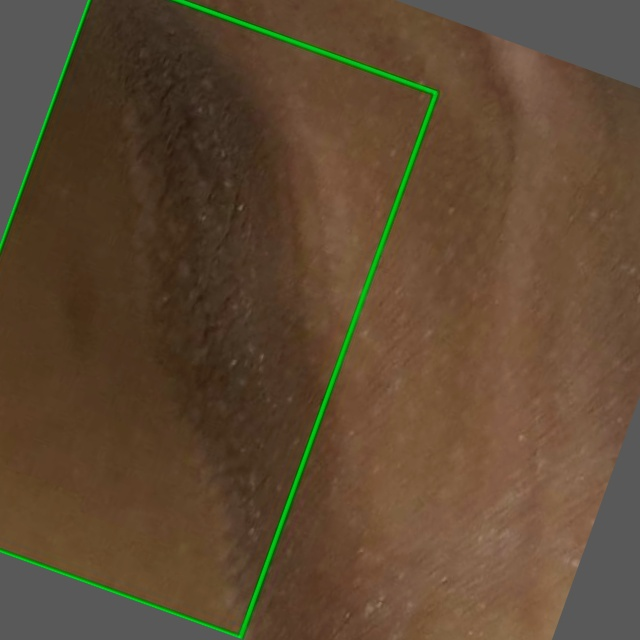Contact Dermatitis: (0, 0, 436, 638)
